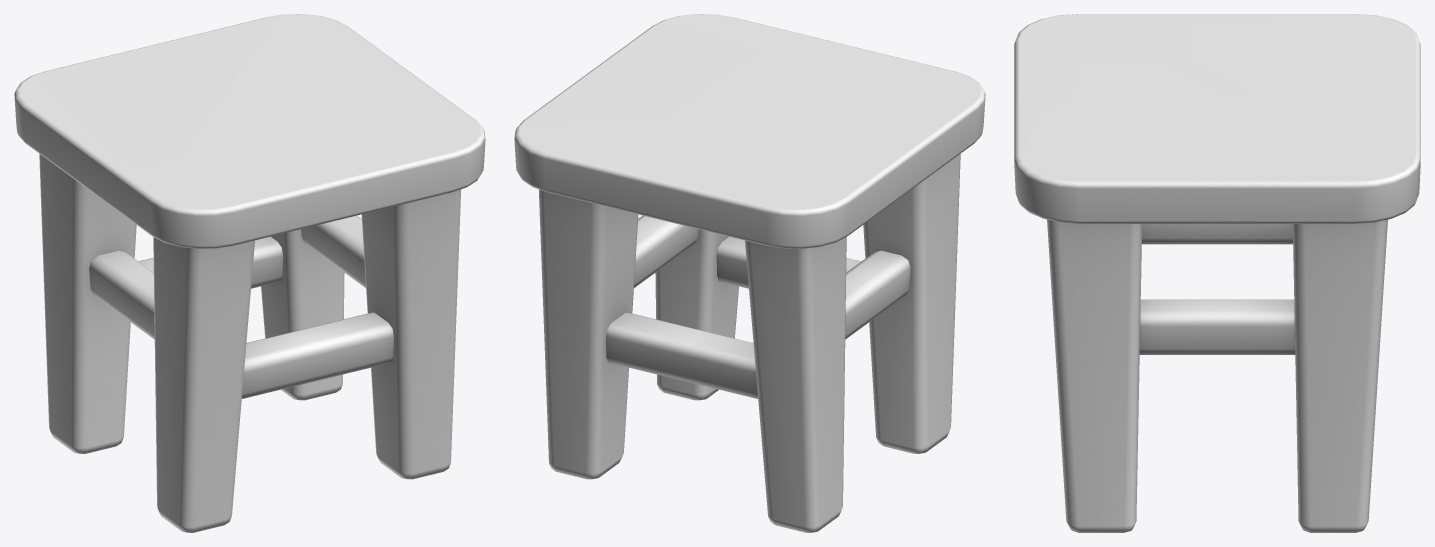
Rendered from Stool.fbx.
3 views of the same model, side by side, from view 1: azimuth 30°, elevation 25°; view 2: azimuth 150°, elevation 25°; view 3: azimuth 270°, elevation 25° (orthographic). The views are drawn at different scales.
Parts seen in each view (by area): view 1: Stool; view 2: Stool; view 3: Stool.
Boxes of the visible parts, x1=… form: Stool: x1=14, y1=14, x2=485, y2=532; Stool: x1=514, y1=14, x2=985, y2=532; Stool: x1=1014, y1=14, x2=1420, y2=532.
Size of the model in its own units: 62.4 by 62.68 by 62.54.
